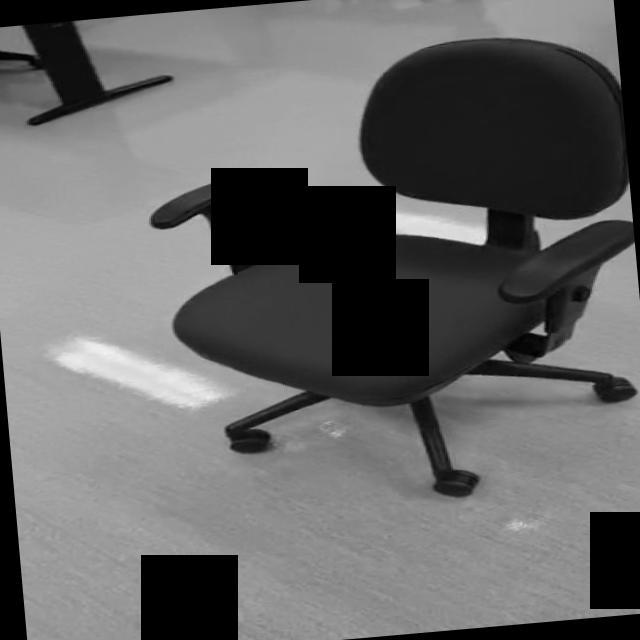chair: (137, 23, 640, 522)
